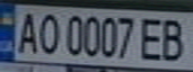0: (81, 12, 103, 59), (100, 12, 121, 59), (63, 11, 84, 56)
7: (115, 14, 139, 61)
A: (12, 8, 42, 55)
B: (157, 16, 190, 62)
E: (136, 14, 166, 62)
O: (33, 9, 60, 55)
